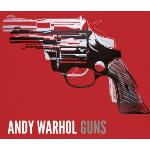Pistol: (10, 25, 150, 115)
